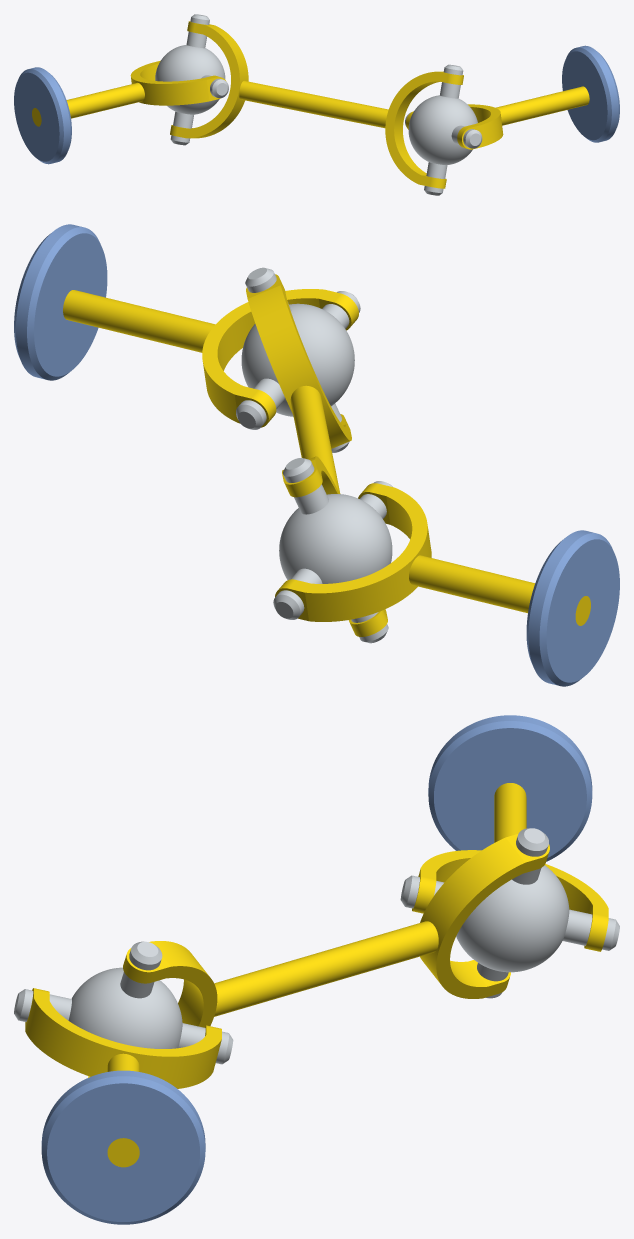
The model's file is Hookejointpart2.gltf.
3 renders of one model, top to bottom at view 1: azimuth 30°, elevation 25°; view 2: azimuth 150°, elevation 25°; view 3: azimuth 270°, elevation 25°, orthographic. The views are drawn at different scales.
Visible parts, largest first — view 1: yoke (×4), spidersphere (×2), disk (×2); view 2: yoke (×4), disk (×2), spidersphere (×2); view 3: disk (×2), yoke (×4), spidersphere (×2).
Part boxes in pixels (bbox=[...]): yoke (×4): bbox=[32, 21, 589, 188]; spidersphere (×2): bbox=[155, 14, 482, 195]; disk (×2): bbox=[14, 45, 619, 164]; yoke (×4): bbox=[63, 274, 590, 636]; disk (×2): bbox=[14, 224, 619, 686]; spidersphere (×2): bbox=[236, 267, 392, 643]; disk (×2): bbox=[41, 715, 592, 1224]; yoke (×4): bbox=[25, 783, 608, 1167]; spidersphere (×2): bbox=[14, 828, 619, 1064].
Size of the model in its own units: 0.644 by 0.1575 by 0.4512.
